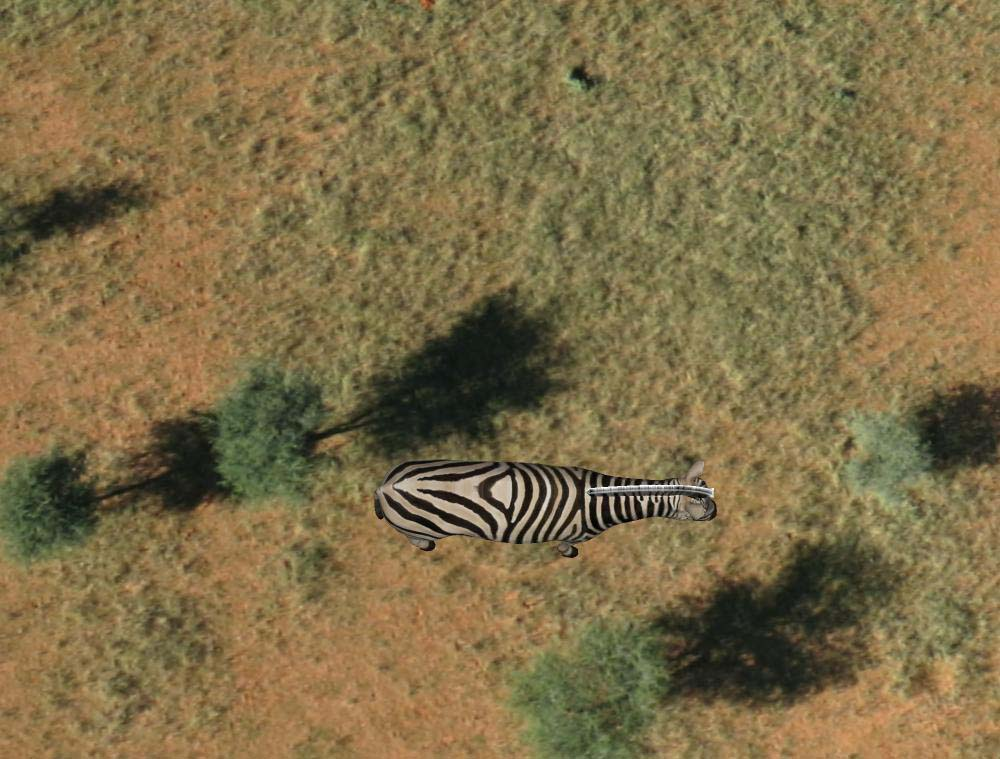zebra: (375, 454, 720, 567)
